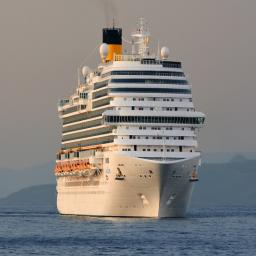cruises: (53, 8, 210, 227)
